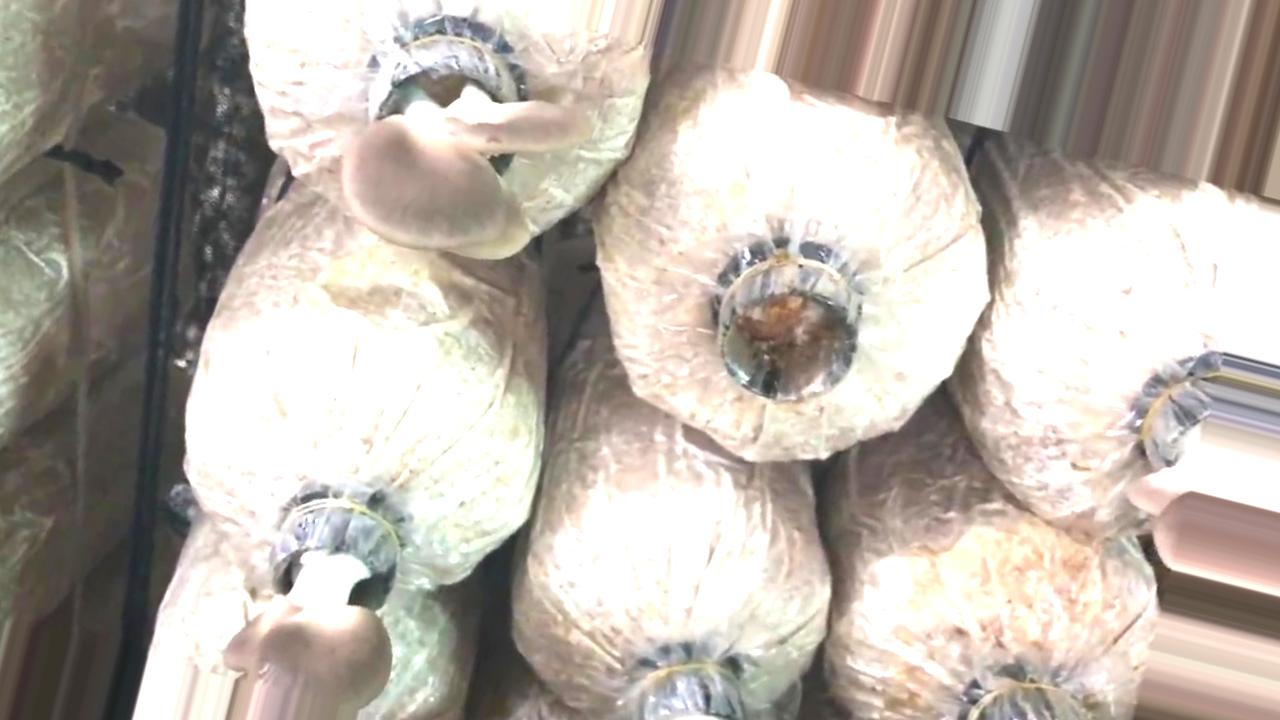nam: (341, 38, 595, 260), (225, 484, 395, 720)
